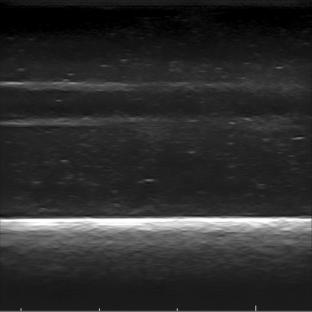vessel: (0, 80, 67, 129)
